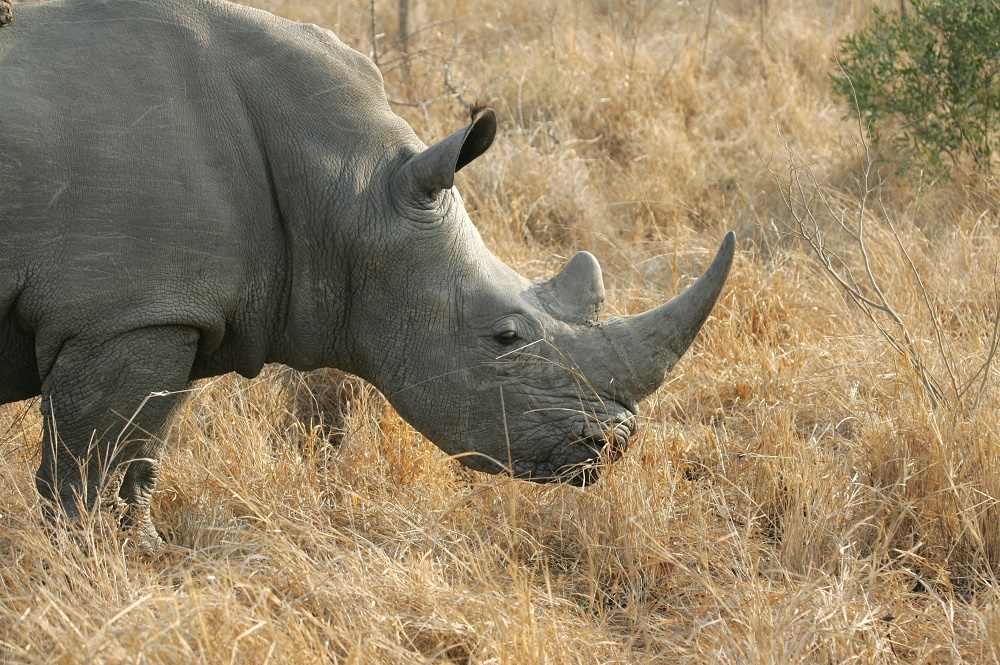rhino: (1, 0, 736, 560)
